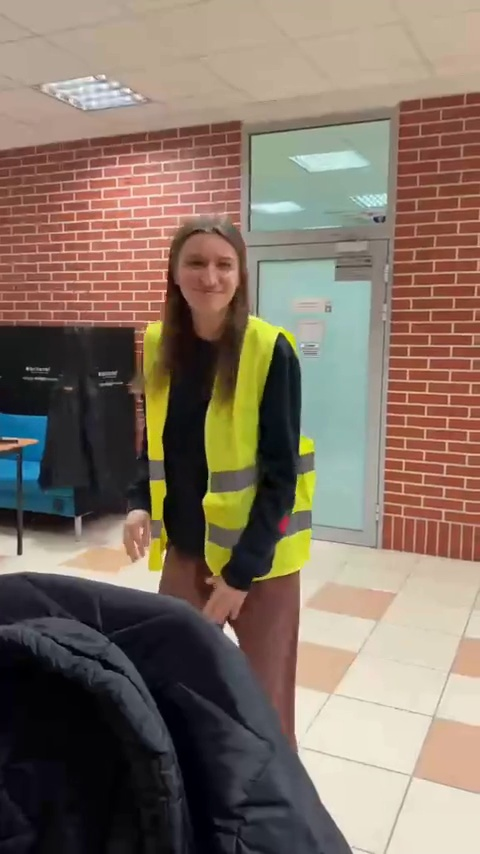vest: (127, 204, 313, 716)
